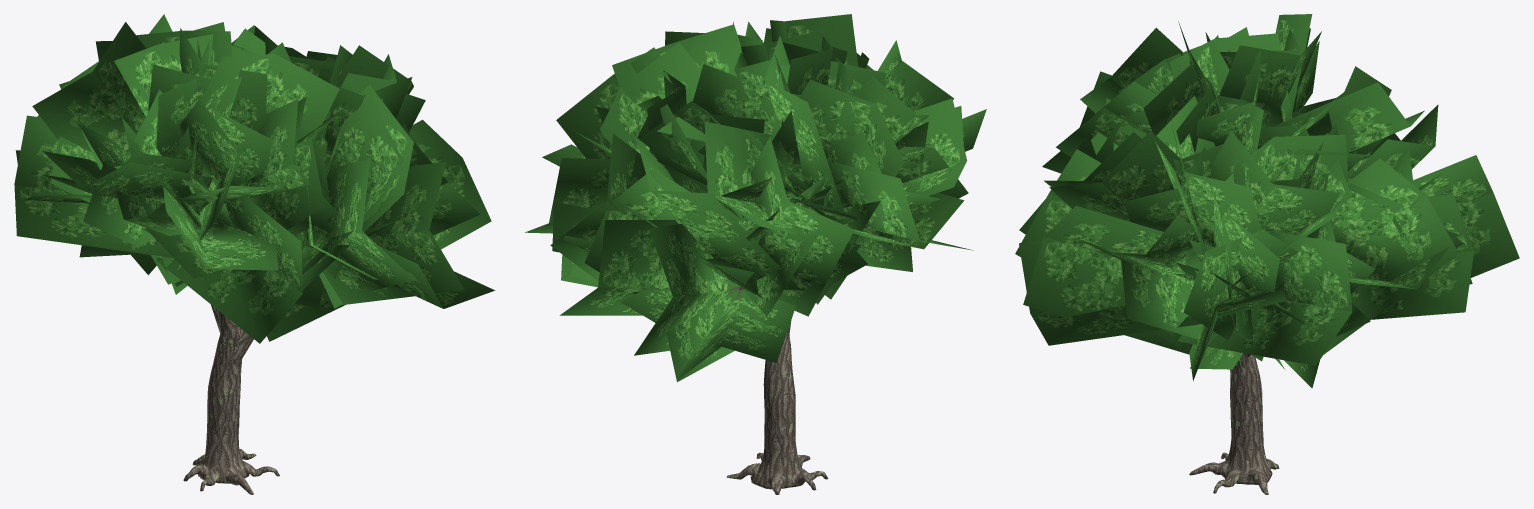
File: environment_elm3_v57.fbx
3 renders of one model, left to right at view 1: azimuth 30°, elevation 25°; view 2: azimuth 150°, elevation 25°; view 3: azimuth 270°, elevation 25°, orthographic. The views are drawn at different scales.
Parts seen in each view (by area): view 1: environment_elm3_v57_lod0; view 2: environment_elm3_v57_lod0; view 3: environment_elm3_v57_lod0.
Part boxes in pixels (x1,y1,x2,y2): environment_elm3_v57_lod0: (14, 14, 495, 494); environment_elm3_v57_lod0: (525, 14, 986, 494); environment_elm3_v57_lod0: (1015, 14, 1519, 494).
Size of what is drawn, in the model's own units: 2871 by 2796 by 2917.
Materials: 2 (2 with a texture image).
